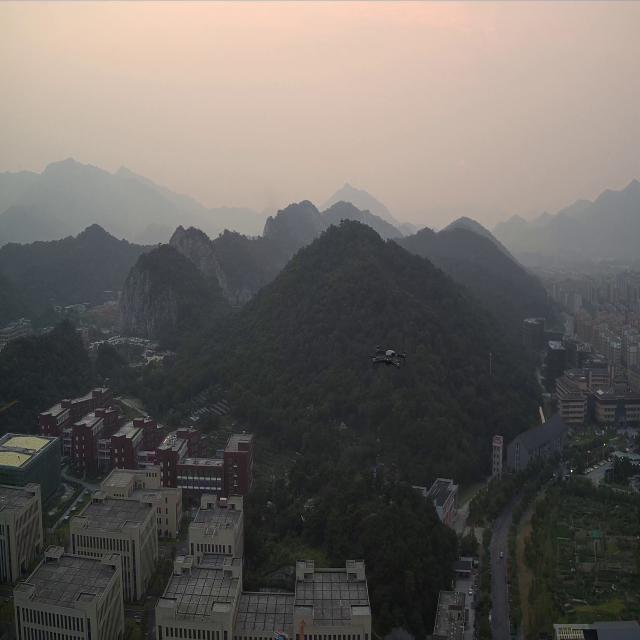UAV: (369, 344, 406, 372)
